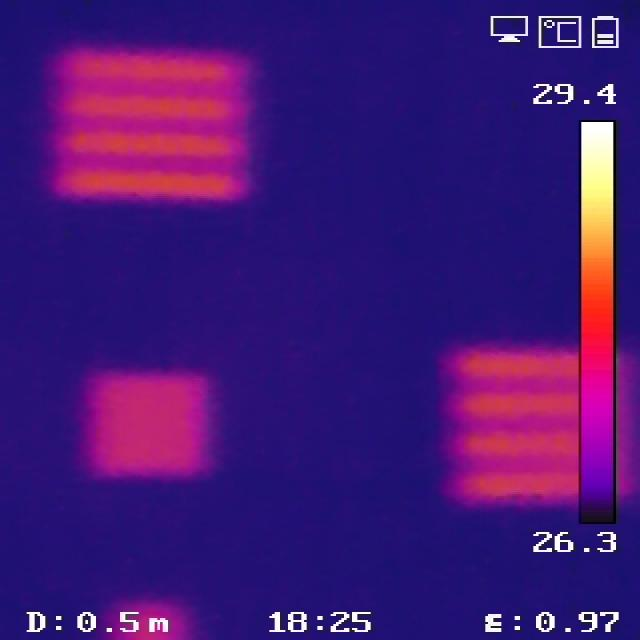Indistinguishable 4-bar target: (72, 371, 223, 476)
threshold 4-bar target: (436, 337, 640, 504), (52, 47, 245, 199)
